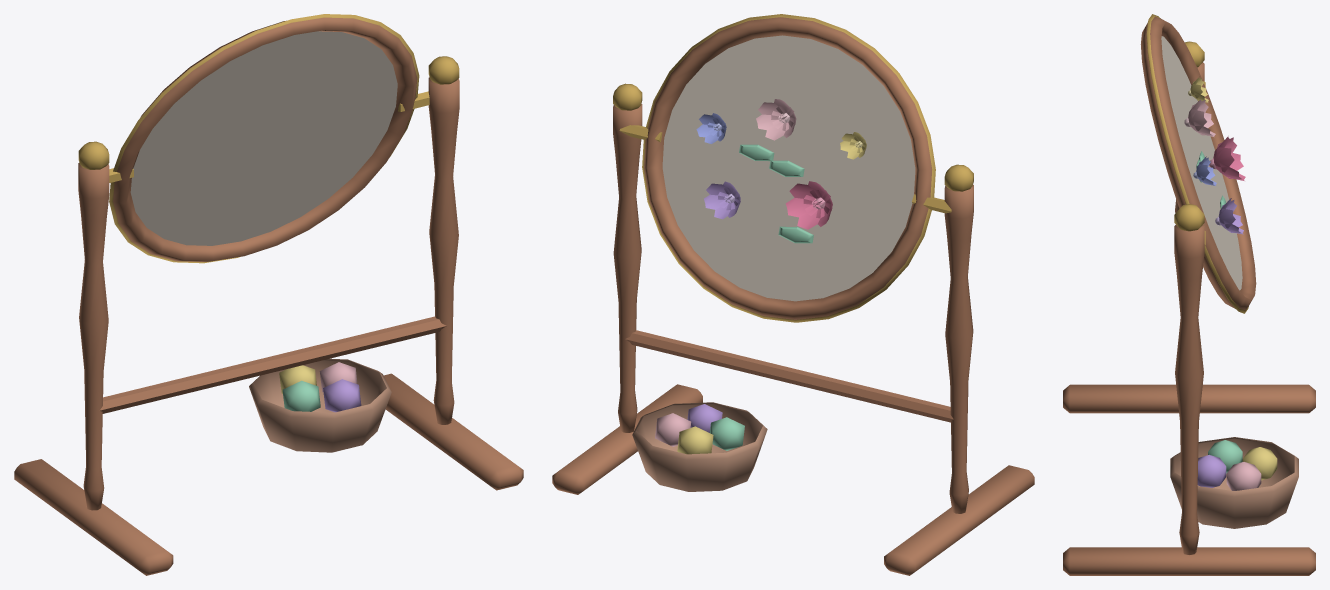
File: embroidery_frame.glb
3 renders of one model, left to right at view 1: azimuth 30°, elevation 25°; view 2: azimuth 150°, elevation 25°; view 3: azimuth 270°, elevation 25°, orthographic. The views are drawn at different scales.
Parts seen in each view (by area): view 1: embroidery_frame; view 2: embroidery_frame; view 3: embroidery_frame.
Boxes of the visible parts, x1=… form: embroidery_frame: x1=14, y1=14, x2=523, y2=575; embroidery_frame: x1=552, y1=14, x2=1034, y2=575; embroidery_frame: x1=1063, y1=14, x2=1315, y2=575.
Size of what is drawn, in the model's own units: 1 by 1.2 by 0.6.
